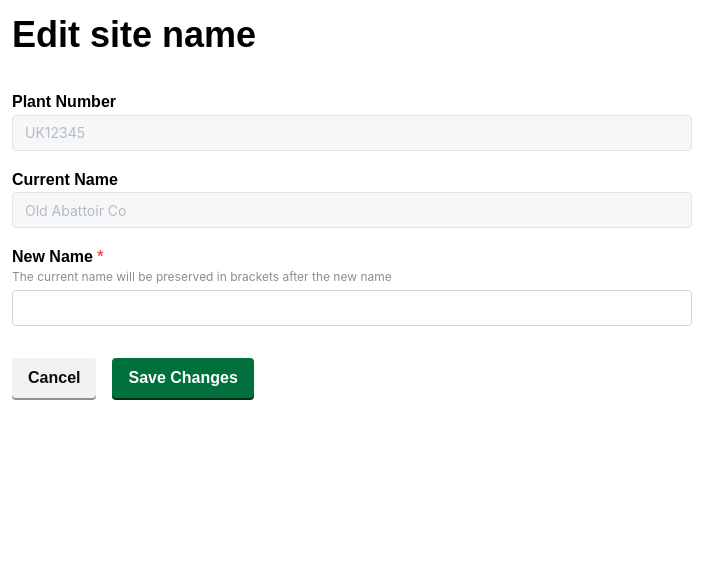
it: EditSiteNamePage › displays generic error when server returns no data
Type "Some Name" into the field with test id "new-name-input".
click(352, 308); type("Some Name")  # box left=12, top=290, right=692, bottom=326
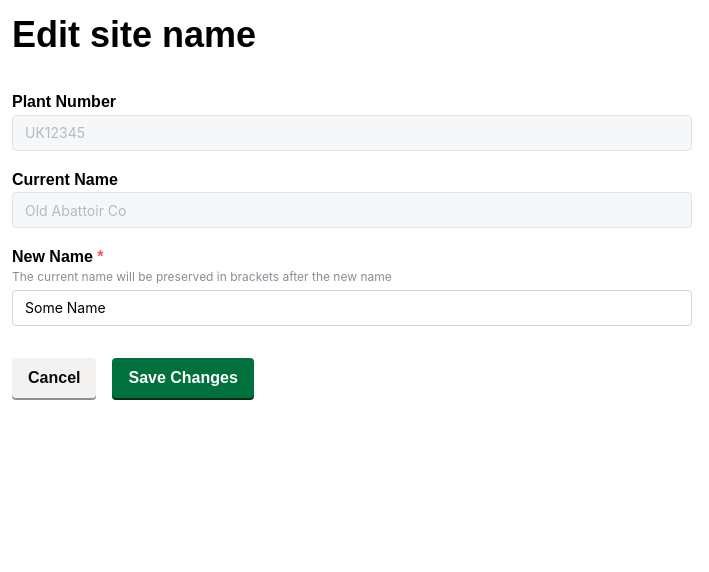
Submit the form from the button with test id "save-button", box left=112, top=358, right=254, bottom=398
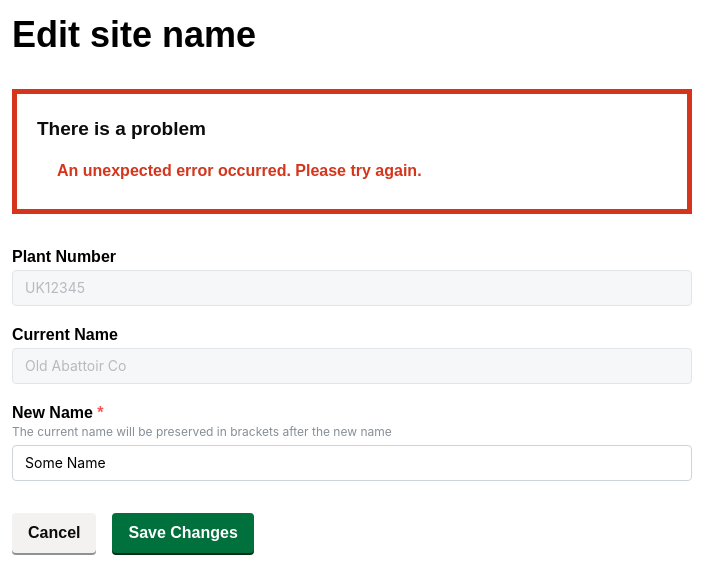
Result: the text "An unexpected error occurred. Please try again." is shown at left=57, top=162, right=422, bottom=179
